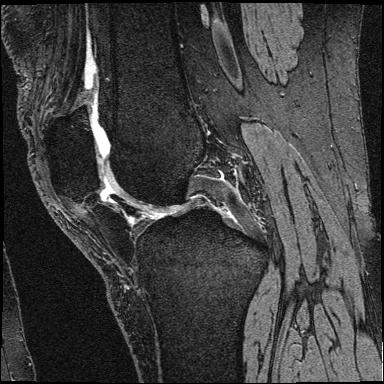SagKneeJointArea: (41, 104, 270, 301)
